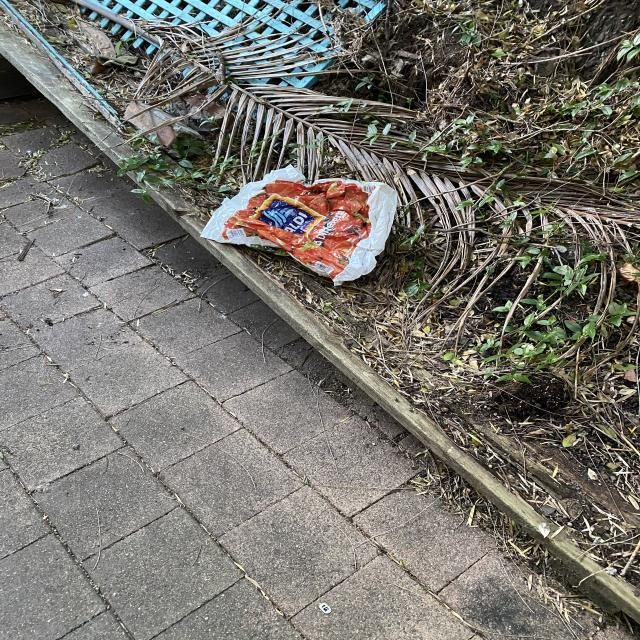bag: (203, 162, 402, 284)
